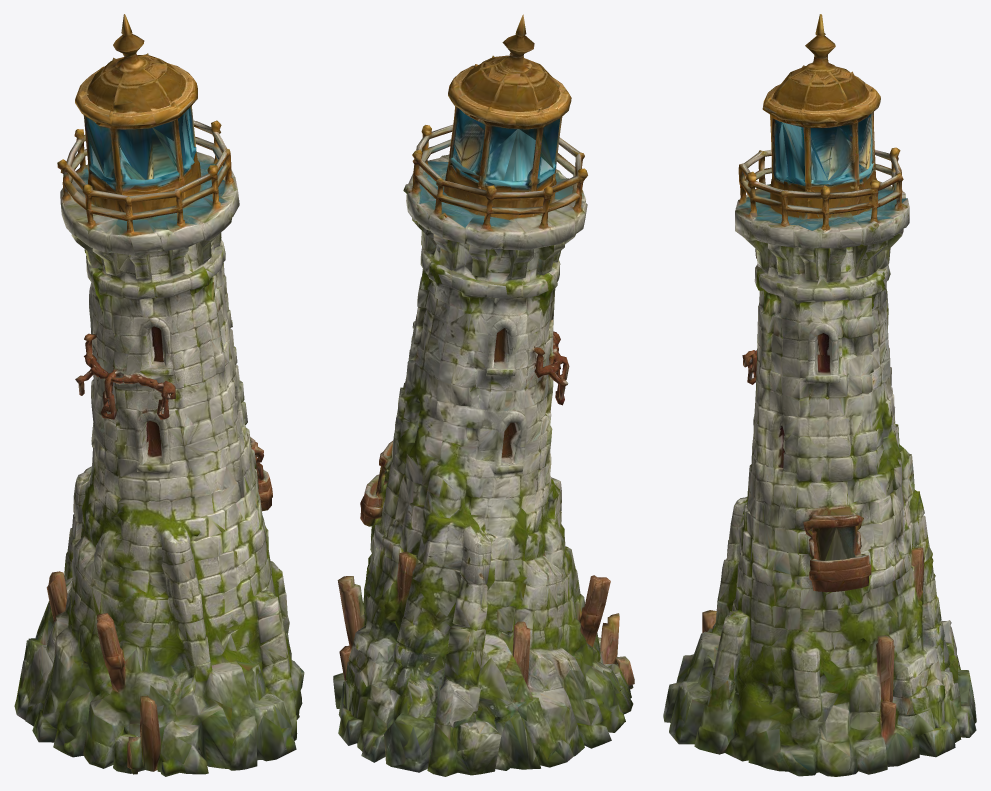
The model's file is sunken_lighthouse.glb.
The picture shows the model from 3 angles, left to right: view 1: azimuth 30°, elevation 25°; view 2: azimuth 150°, elevation 25°; view 3: azimuth 270°, elevation 25°; orthographic projection. The views are drawn at different scales.
Parts seen in each view (by area): view 1: Model; view 2: Model; view 3: Model.
Part boxes in pixels (x1=…): Model: x1=14, y1=14, x2=304, y2=776; Model: x1=333, y1=14, x2=634, y2=776; Model: x1=663, y1=14, x2=976, y2=776.
Bounding box in the file's own units: 12.85 × 34 × 14.13.
1 material, 1 textured.
